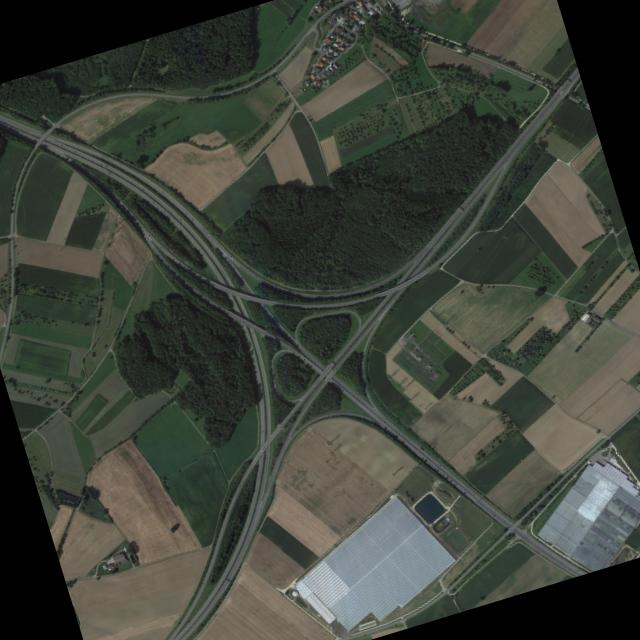storage-tank: (291, 589, 299, 597)
